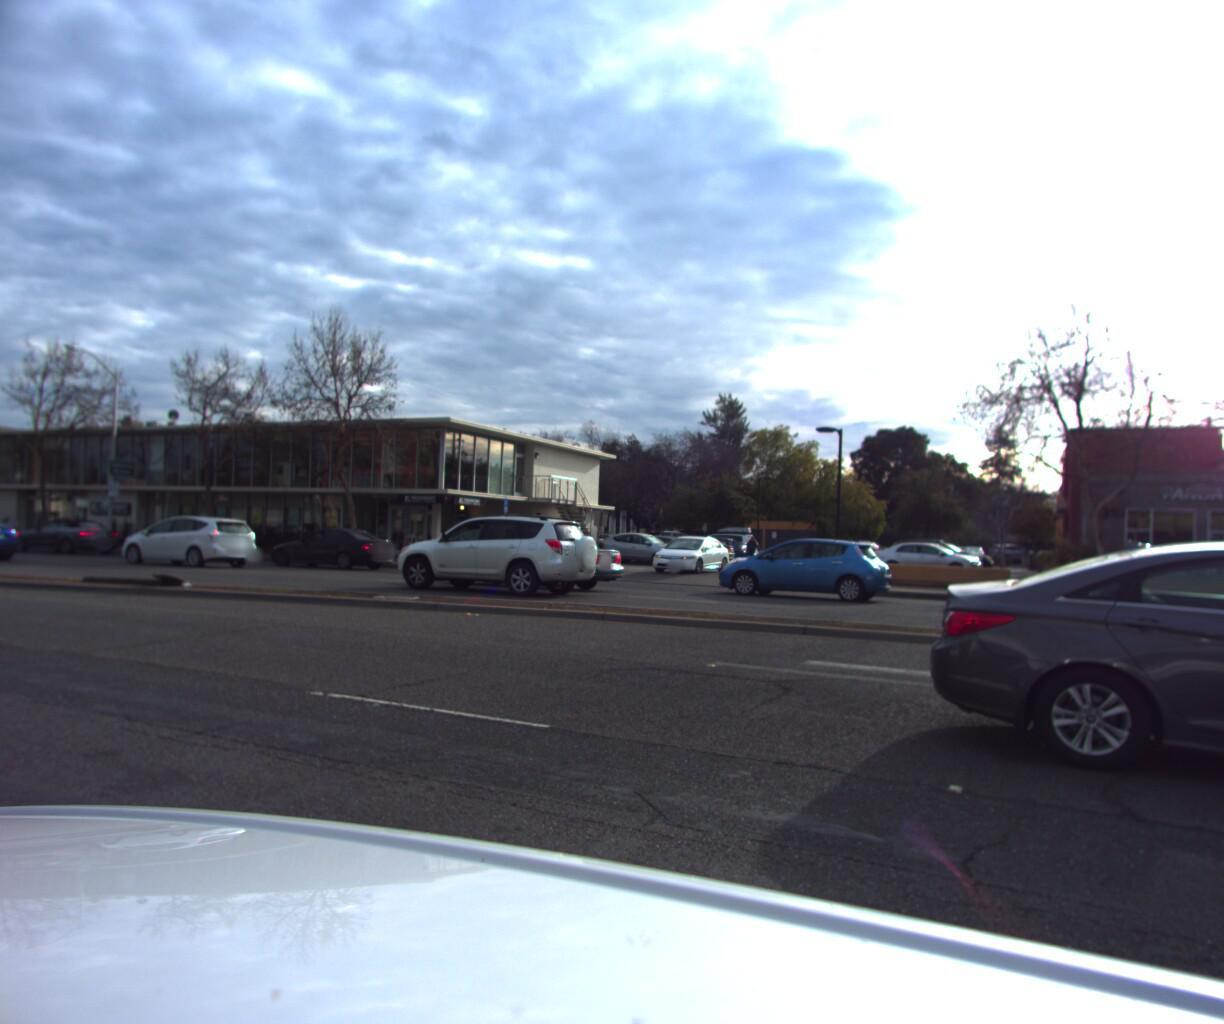car: (919, 526, 1224, 885), (387, 509, 612, 603), (443, 513, 639, 594), (711, 535, 894, 602), (115, 514, 265, 570), (260, 523, 401, 569), (10, 521, 132, 558), (648, 533, 731, 574), (0, 508, 38, 566), (0, 505, 12, 556)
